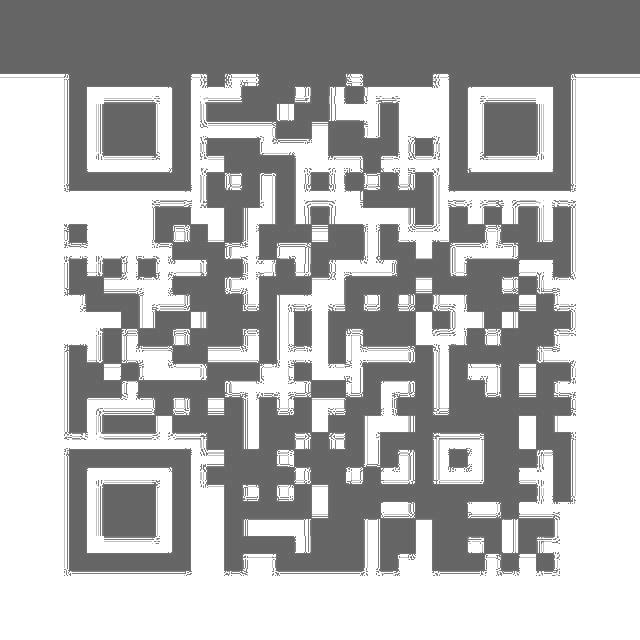qr_code: (46, 35, 602, 595)
